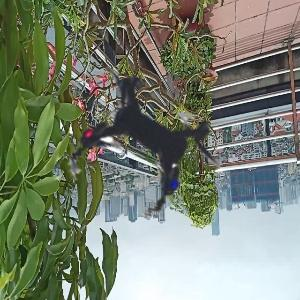drone: (17, 6, 289, 278)
